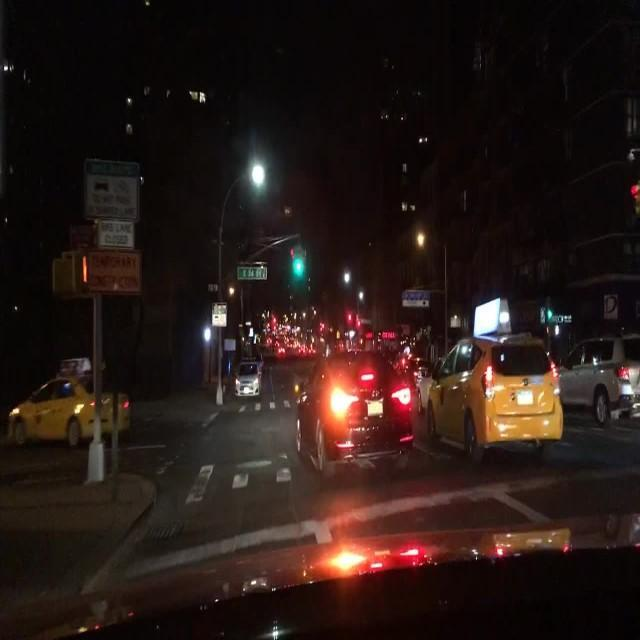normal: (417, 339, 569, 468), (297, 348, 422, 481), (556, 332, 638, 424), (9, 377, 101, 449), (232, 359, 262, 396)
